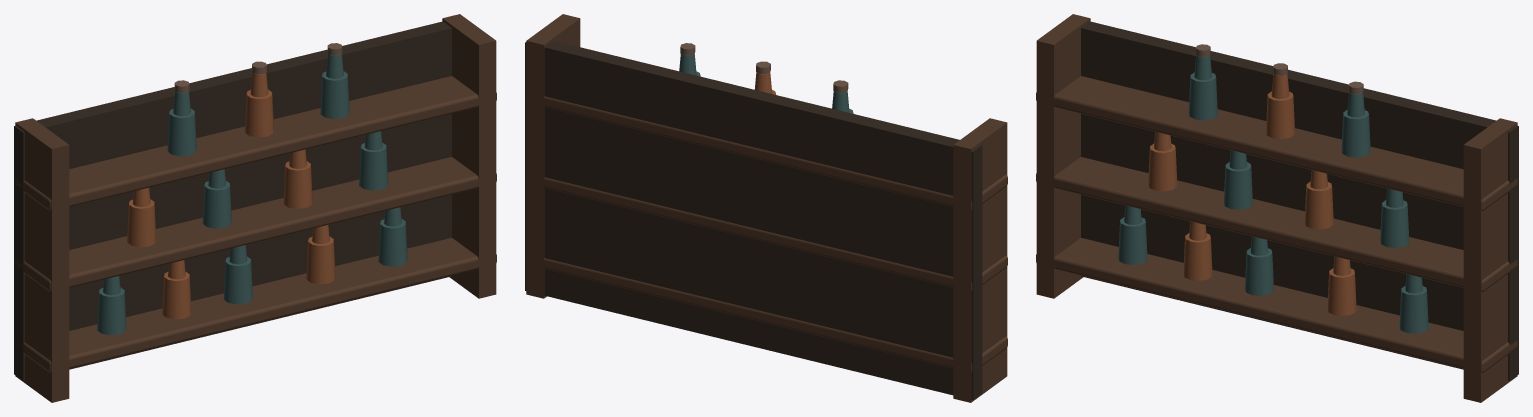
File: sk_bar_shelf.glb
3 renders of one model, left to right at view 1: azimuth 30°, elevation 25°; view 2: azimuth 150°, elevation 25°; view 3: azimuth 330°, elevation 25°, orthographic.
Parts seen in each view (by area): view 1: object 2, wood, object 3, object 5, object 4; view 2: wood, object 2, object 3, object 4; view 3: object 2, wood, object 3, object 5, object 4.
Part boxes in pixels (x1,y1,x2,y2): object 2: (15, 14, 496, 402); wood: (14, 21, 451, 380); object 3: (97, 54, 407, 335); object 5: (127, 72, 335, 319); object 4: (174, 43, 342, 92); wood: (525, 40, 982, 399); object 2: (526, 14, 1007, 402); object 3: (679, 54, 853, 113); object 4: (680, 43, 848, 92); object 2: (1036, 14, 1517, 402); wood: (1081, 21, 1518, 380); object 3: (1118, 55, 1428, 333); object 5: (1148, 74, 1356, 315); object 4: (1195, 44, 1363, 94).
Bounding box in the file's own units: 2.55 × 1.47 × 0.36.
